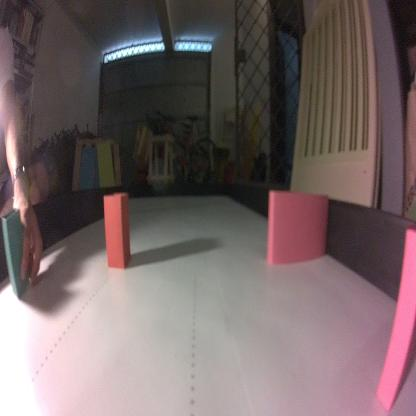magenta: (374, 218, 416, 414), (267, 186, 330, 266)
red: (102, 191, 132, 270)
